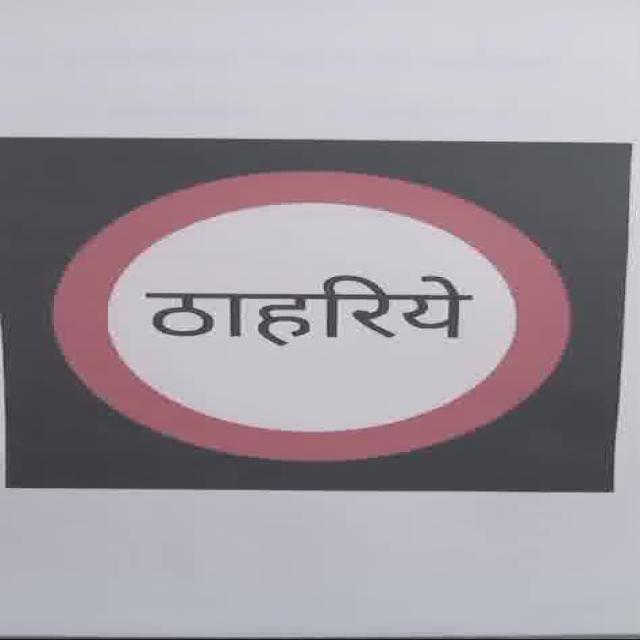hindistop: (2, 138, 630, 491), (140, 272, 476, 346)
